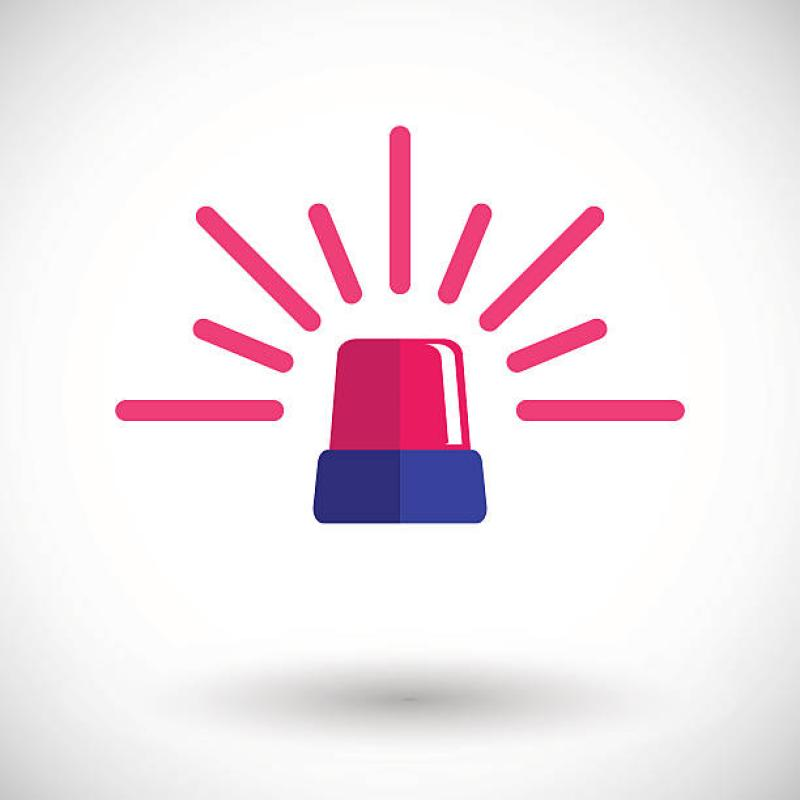AmbulanceSiren: (304, 338, 518, 552)
